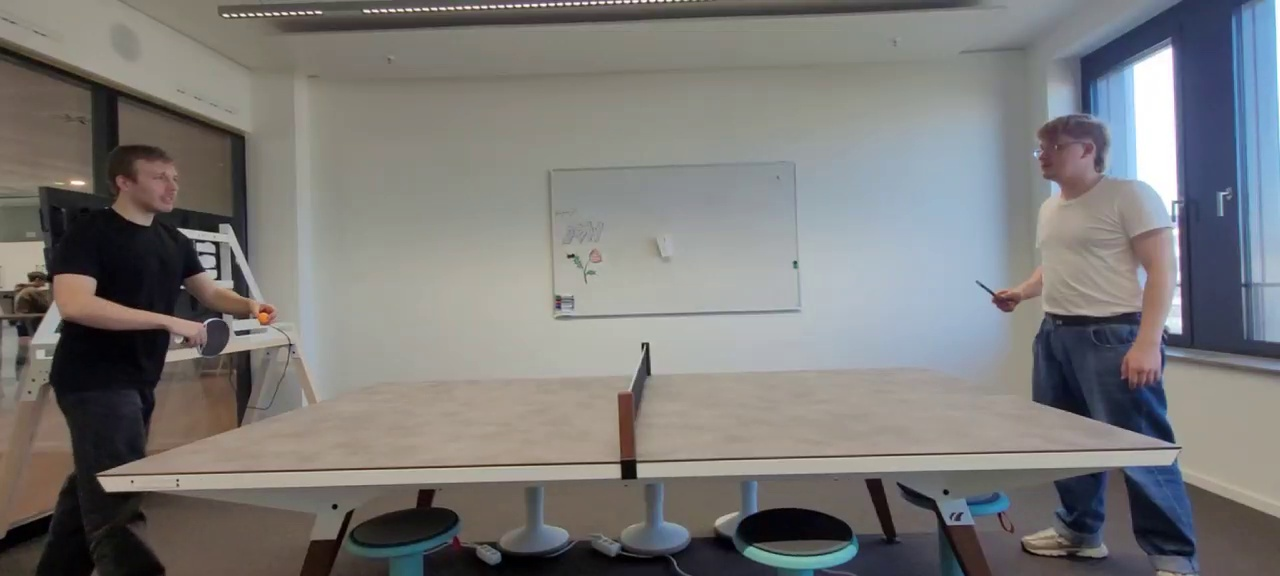plate: (98, 367, 1181, 474)
racket: (197, 318, 230, 358), (976, 280, 1010, 306)
ttball: (258, 313, 268, 324)
